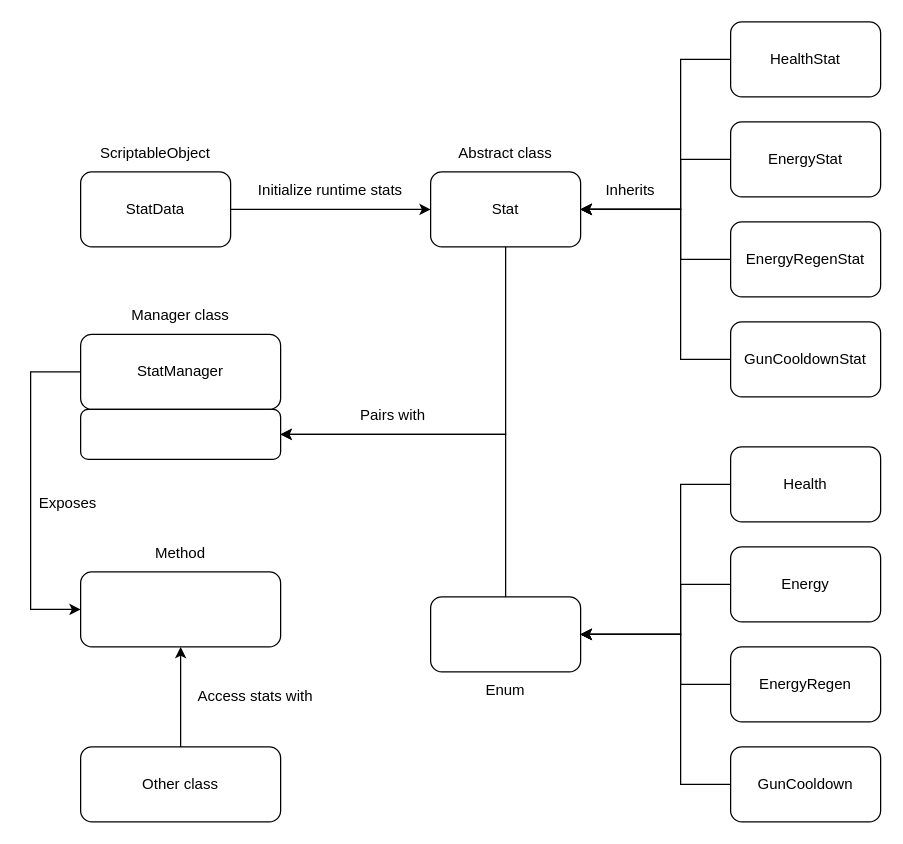
Image size: 903x844. Some labels were removed from this diagram. Each missing label, with the centre of its shape:
"Dictionary<StatID, Stat>" goes at (x=180, y=433).
"ReadStat(statID: StatID)" goes at (x=180, y=609).
"StatID" goes at (x=505, y=634).
